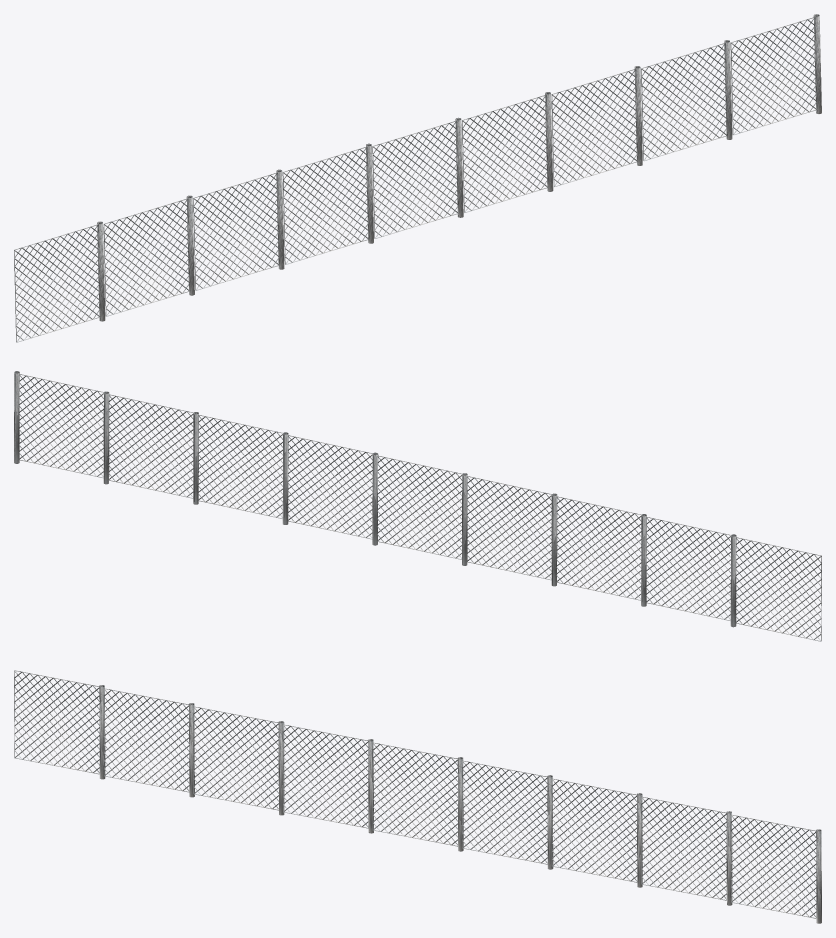
Rendered from fence1.obj.
The picture shows the model from 3 angles, top to bottom: view 1: azimuth 30°, elevation 25°; view 2: azimuth 150°, elevation 25°; view 3: azimuth 330°, elevation 25°; orthographic projection. The views are drawn at different scales.
Parts seen in each view (by area): view 1: Plane.002_Plane.004; view 2: Plane.002_Plane.004; view 3: Plane.002_Plane.004.
Part boxes in pixels (x1=…): Plane.002_Plane.004: x1=14, y1=14, x2=821, y2=342; Plane.002_Plane.004: x1=14, y1=371, x2=821, y2=641; Plane.002_Plane.004: x1=14, y1=670, x2=821, y2=923.
Size of the model in its own units: 52.21 by 6.43 by 3.21.
1 material, 1 textured.
